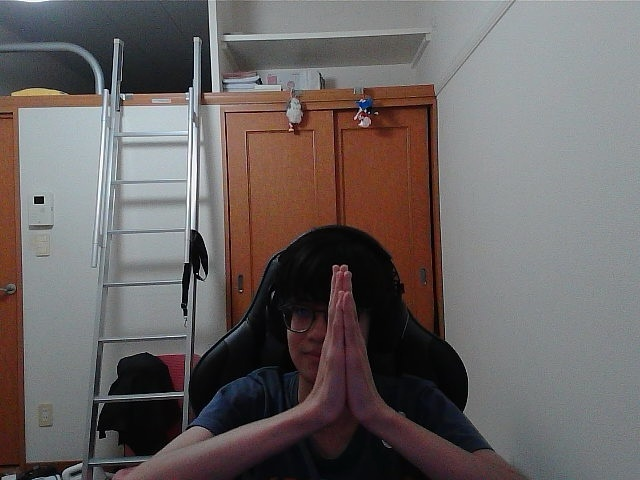pray: (323, 287, 343, 403)
